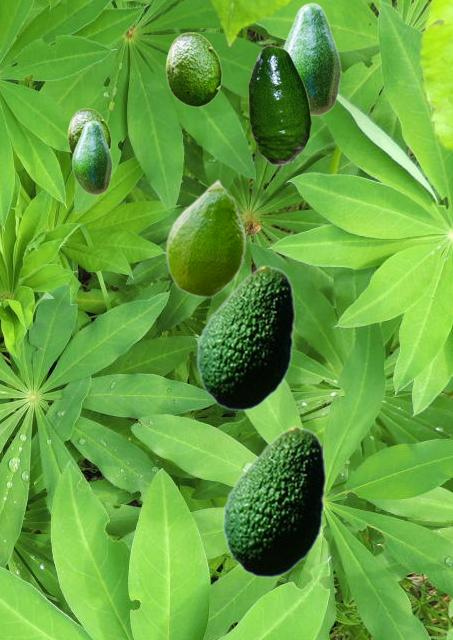avocado: (222, 426, 325, 577), (196, 265, 294, 410), (165, 178, 245, 297), (248, 45, 310, 164), (282, 2, 340, 115), (165, 32, 221, 106), (71, 120, 111, 194), (67, 108, 110, 154)
